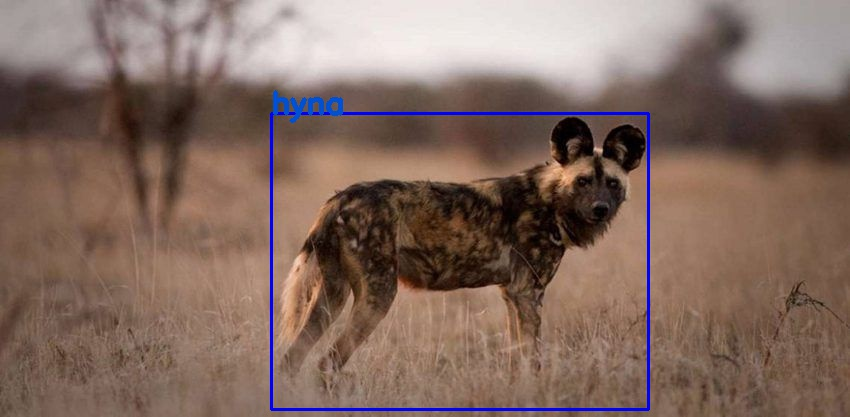hyna: (270, 112, 647, 408)
